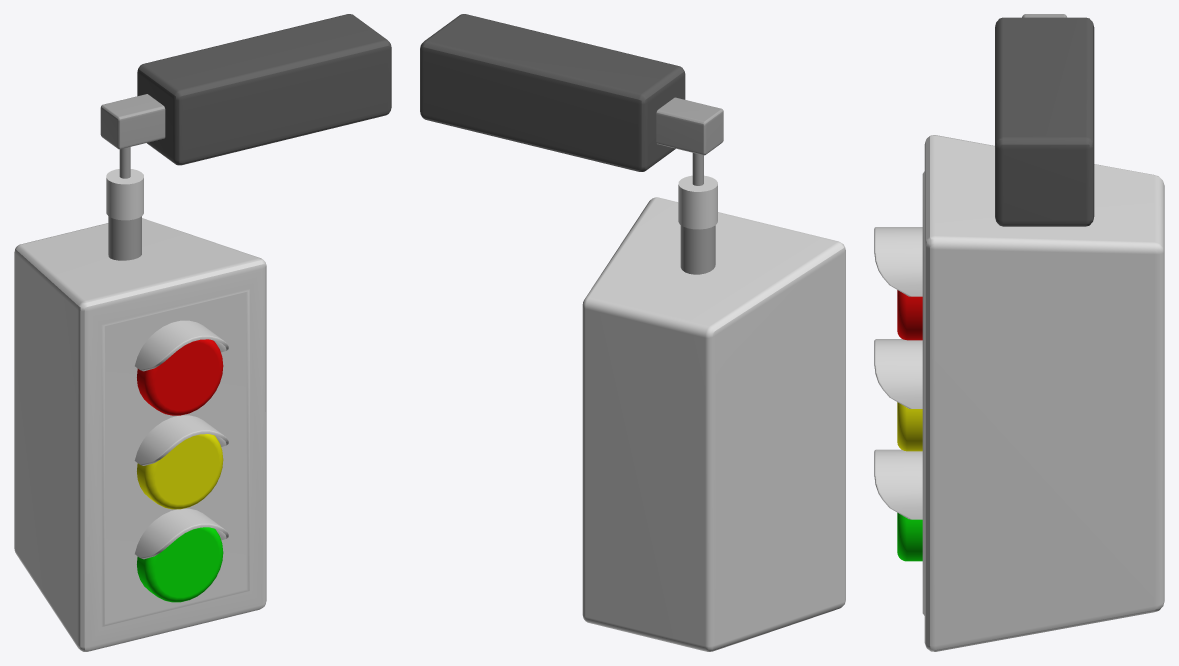
File: road_light.fbx
3 renders of one model, left to right at view 1: azimuth 30°, elevation 25°; view 2: azimuth 150°, elevation 25°; view 3: azimuth 270°, elevation 25°, orthographic. The views are drawn at different scales.
Visible parts, largest first — view 1: pCube12, pCube14, polySurface10, polySurface12, polySurface14, pCube13, polySurface11, polySurface13, polySurface15, pCylinder20, pCylinder19; view 2: pCube12, pCube14, pCube13, pCylinder20, pCylinder19; view 3: pCube12, pCube14, polySurface11, polySurface15, polySurface13, polySurface10, polySurface12, polySurface14.
Boxes of the visible parts, <box> form: pCube12: <box>14,218,266,651</box>; pCube14: <box>137,14,391,165</box>; polySurface10: <box>137,339,223,415</box>; polySurface12: <box>137,434,223,509</box>; polySurface14: <box>137,527,223,602</box>; pCube13: <box>100,94,165,149</box>; polySurface11: <box>135,320,228,371</box>; polySurface13: <box>134,415,228,465</box>; polySurface15: <box>135,508,228,559</box>; pCylinder20: <box>106,169,143,220</box>; pCylinder19: <box>108,216,141,260</box>; pCube12: <box>582,197,845,651</box>; pCube14: <box>420,14,685,171</box>; pCube13: <box>656,97,723,155</box>; pCylinder20: <box>678,175,717,229</box>; pCylinder19: <box>680,225,715,274</box>; pCube12: <box>922,135,1164,651</box>; pCube14: <box>995,17,1094,226</box>; polySurface11: <box>874,227,922,296</box>; polySurface15: <box>874,449,922,519</box>; polySurface13: <box>874,339,922,408</box>; polySurface10: <box>897,290,922,340</box>; polySurface12: <box>897,402,922,451</box>; polySurface14: <box>897,513,922,561</box>.
Bounding box in the file's own units: 3.53 × 5.03 × 2.19.
